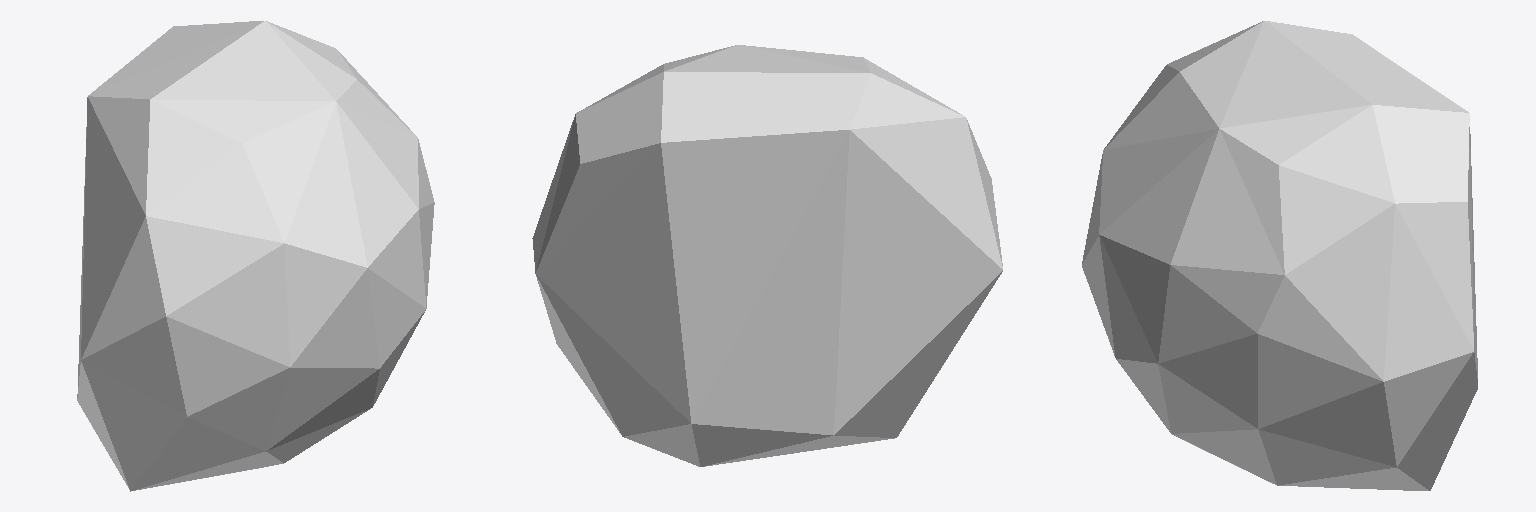
URDF robot description (talos_rarm_rom):
<?xml version="1.0" ?>
<robot name="talos_rarm_rom" xmlns:controller="http://playerstage.sourceforge.net/gazebo/xmlschema/#controller" xmlns:interface="http://playerstage.sourceforge.net/gazebo/xmlschema/#interface" xmlns:sensor="http://playerstage.sourceforge.net/gazebo/xmlschema/#sensor" xmlns:xacro="http://ros.org/wiki/xacro">

  <link name="torso_2_link">
    <inertial>
      <origin rpy="0.00000 0.00000 0.00000" xyz="-0.04551 -0.00053 0.16386"/>
      <mass value="17.55011"/>
      <inertia ixx="0.37376900000" ixy="0.00063900000" ixz="0.01219600000" iyy="0.24790200000" iyz="0.00000700000" izz="0.28140400000"/>
    </inertial>    
    <visual>
      <origin rpy="0 0 0" xyz="0 0 0"/>
      <geometry>
        <mesh filename="package://talos-rbprm/meshes/talos_rarm_rom.stl" scale="1 1 1"/>
      </geometry>
      <material name="LightGrey"/>
    </visual>
    <collision>
      <origin rpy="0 0 0" xyz="0 0 0"/>
      <geometry>
        <mesh filename="package://talos-rbprm/meshes/talos_rarm_rom.stl" scale="1 1 1"/>
      </geometry>
    </collision>
  </link>
  <!--************************-->
  <!--        TORSO_1  (PAN)  -->
  <!--************************-->
  <link name="torso_1_link">
    <inertial>
      <origin rpy="0.00000 0.00000 0.00000" xyz="0.00013 -0.00001 -0.01306"/>
      <mass value="3.02433"/>
      <inertia ixx="0.00759400000" ixy="0.00000100000" ixz="-0.00004800000" iyy="0.00429200000" iyz="-0.00000100000" izz="0.00749700000"/>
    </inertial>
  </link>
  <joint name="torso_1_joint" type="revolute">
    <parent link="base_link"/>
    <child link="torso_1_link"/>
    <origin rpy="0.0 0.0 0.0" xyz="0.0 0.0 0.0722"/>
    <axis xyz="0 0 1"/>
    <limit effort="78.0" lower="-1.308996939" upper="1.308996939" velocity="5.4"/>
  </joint>
  <!--************************-->
  <!--        BASE_LINK       -->
  <!--************************-->
  <link name="base_link">
    <inertial>
      <origin rpy="0.00000 0.00000 0.00000" xyz="-0.08222 0.00838 -0.07261"/>
      <mass value="13.53810"/>
      <inertia ixx="0.06989000000" ixy="-0.00011700000" ixz="0.00023000000" iyy="0.03998200000" iyz="-0.00132500000" izz="0.08234500000"/>
    </inertial>
  </link>
  <joint name="torso_2_joint" type="revolute">
    <parent link="torso_1_link"/>
    <child link="torso_2_link"/>
    <origin rpy="0.0 0.0 0.0" xyz="0.0 0.0 0.0"/>
    <axis xyz="0 1 0"/>
    <limit effort="78.0" lower="-0.261799387799" upper="0.785398163397" velocity="5.4"/>
  </joint>
  <link name="head_1_link">
    <inertial>
      <origin rpy="0.00000 0.00000 0.00000" xyz="0.00120 0.00145 0.02165"/>
      <mass value="0.65988"/>
      <inertia ixx="0.00122100000" ixy="-0.00000400000" ixz="0.00007000000" iyy="0.00092400000" iyz="-0.00004100000" izz="0.00103300000"/>
    </inertial>
  </link>
  <joint name="head_1_joint" type="revolute">
    <parent link="torso_2_link"/>
    <child link="head_1_link"/>
    <origin rpy="0.0 0.0 0.0" xyz="0.00000 0.00000 0.31600"/>
    <axis xyz="0 1 0"/>
    <limit effort="8.0" lower="-0.261799387799" upper="0.785398163397" velocity="1.0"/>
  </joint>
  <link name="head_2_link">
    <inertial>
      <origin rpy="0.00000 0.00000 0.00000" xyz="-0.01036 -0.00037 0.13778"/>
      <mass value="1.40353"/>
      <inertia ixx="0.00722500000" ixy="-0.00002500000" ixz="0.00032900000" iyy="0.00687300000" iyz="0.00004400000" izz="0.00437300000"/>
    </inertial>   
  </link>
  <joint name="head_2_joint" type="revolute">
    <parent link="head_1_link"/>
    <child link="head_2_link"/>
    <origin rpy="0.0 0.0 0.0" xyz="0.00000 0.00000 0.00000"/>
    <axis xyz="0 0 1"/>
    <limit effort="4.0" lower="-1.308996939" upper="1.308996939" velocity="1.0"/>
  </joint>
  <!-- define global properties -->
  <!-- <xacro:property name="M_PI" value="3.1415926535897931" /> -->
  <!-- Materials for visualization -->
  <material name="Blue">
    <color rgba="0.0 0.0 0.8 1.0"/>
  </material>
  <material name="Green">
    <color rgba="0.0 0.8 0.0 1.0"/>
  </material>
  <material name="Grey">
    <color rgba="0.7 0.7 0.7 1.0"/>
  </material>
  <material name="LightGrey">
    <color rgba="0.9 0.9 0.9 1.0"/>
  </material>
  <material name="DarkGrey">
    <color rgba="0.2 0.2 0.2 1.0"/>
  </material>
  <material name="Red">
    <color rgba="0.8 0.0 0.0 1.0"/>
  </material>
  <material name="White">
    <color rgba="1.0 1.0 1.0 1.0"/>
  </material>
  <material name="Orange">
    <color rgba="1.0 0.5 0.0 1.0"/>
  </material>
</robot>

--- Facts derived from the render (not from the file) ---
3 views of the same robot in one strip: view 1: azimuth 30°, elevation 25°; view 2: azimuth 150°, elevation 25°; view 3: azimuth 270°, elevation 25° (orthographic).
Model talos_rarm_rom with 5 links and 4 joints (4 revolute), rooted at base_link, posed all joints at 0.
Links seen in each view (by area): view 1: torso_2_link; view 2: torso_2_link; view 3: torso_2_link.
Boxes of the visible links, <box> form: torso_2_link: <box>77,21,434,491</box>; torso_2_link: <box>532,45,1002,466</box>; torso_2_link: <box>1082,21,1477,490</box>.
Size in the robot's own frame: 1.16 by 0.9556 by 1.06 metres.
Meshes: 1 distinct files referenced, 1 mesh visuals loaded (1 binary STL).